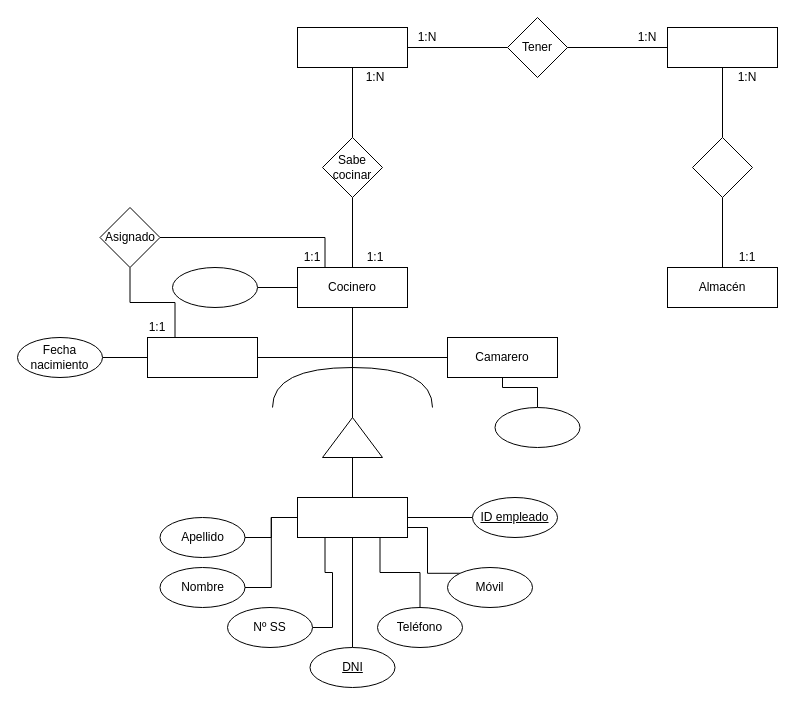
The diagram is 795 pixels wide and 705 high, and some of its shapes have lost their labels. Each missing label, with the centre of its shape:
"Años de servicio" goes at point (215, 287).
"Empleado" goes at point (352, 517).
"Guardado" goes at point (722, 167).
"Ingredientes" goes at point (722, 47).
"Mesa" goes at point (537, 427).
"Pinche" goes at point (202, 357).
"Plato" goes at point (352, 47).
